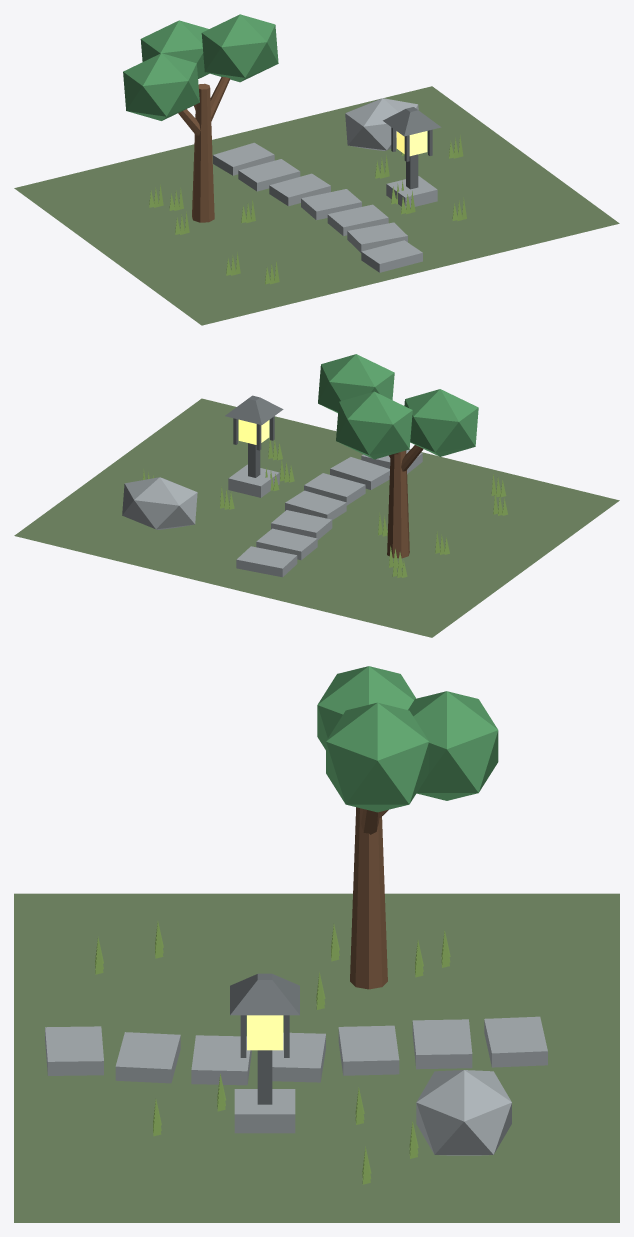
The model's file is aura-garden-poc.glb.
The picture shows the model from 3 angles, top to bottom: view 1: azimuth 30°, elevation 25°; view 2: azimuth 150°, elevation 25°; view 3: azimuth 270°, elevation 25°; orthographic projection. The views are drawn at different scales.
Parts seen in each view (by area): view 1: Ground, Tree_Canopy_0, Tree_Canopy_1, Tree_Trunk, Stone, Tree_Canopy_2, Path_00, Path_05, Path_04, Path_06, Path_03, Path_02 (+4 smaller); view 2: Ground, Tree_Canopy_2, Tree_Canopy_0, Stone, Tree_Canopy_1, Tree_Trunk, Path_06, Path_01, Path_02, Path_05, Path_03, Path_04 (+4 smaller); view 3: Ground, Tree_Canopy_1, Tree_Canopy_2, Stone, Tree_Trunk, Tree_Canopy_0, Path_01, Path_06, Path_04, Path_05, Path_00, Path_02 (+5 smaller).
Part boxes in pixels (x1,y1,x2,y2): Ground: [14, 86, 619, 325]; Tree_Canopy_0: [123, 53, 199, 120]; Tree_Canopy_1: [201, 14, 278, 82]; Tree_Trunk: [192, 83, 214, 222]; Stone: [345, 98, 418, 150]; Tree_Canopy_2: [140, 20, 209, 78]; Path_00: [361, 240, 422, 272]; Path_05: [238, 159, 300, 191]; Path_04: [269, 173, 330, 206]; Path_06: [213, 142, 274, 175]; Path_03: [301, 189, 361, 220]; Path_02: [327, 204, 388, 235]; Ground: [14, 398, 619, 637]; Tree_Canopy_2: [336, 391, 412, 459]; Tree_Canopy_0: [404, 389, 478, 456]; Stone: [122, 477, 197, 529]; Tree_Canopy_1: [318, 354, 394, 412]; Tree_Trunk: [387, 450, 409, 558]; Path_06: [236, 546, 297, 577]; Path_01: [330, 457, 389, 489]; Path_02: [304, 473, 365, 505]; Path_05: [256, 528, 317, 560]; Path_03: [285, 490, 346, 519]; Path_04: [271, 510, 332, 539]; Ground: [14, 893, 619, 1222]; Tree_Canopy_1: [326, 702, 428, 812]; Tree_Canopy_2: [408, 691, 498, 800]; Stone: [416, 1070, 511, 1155]; Tree_Trunk: [350, 807, 387, 989]; Tree_Canopy_0: [317, 666, 415, 749]; Path_01: [115, 1032, 180, 1083]; Path_06: [484, 1016, 547, 1067]; Path_04: [338, 1025, 399, 1075]; Path_05: [412, 1019, 472, 1069]; Path_00: [45, 1026, 103, 1075]; Path_02: [191, 1035, 251, 1085].
Bounding box in the file's own units: 9 × 4.08 × 7.
